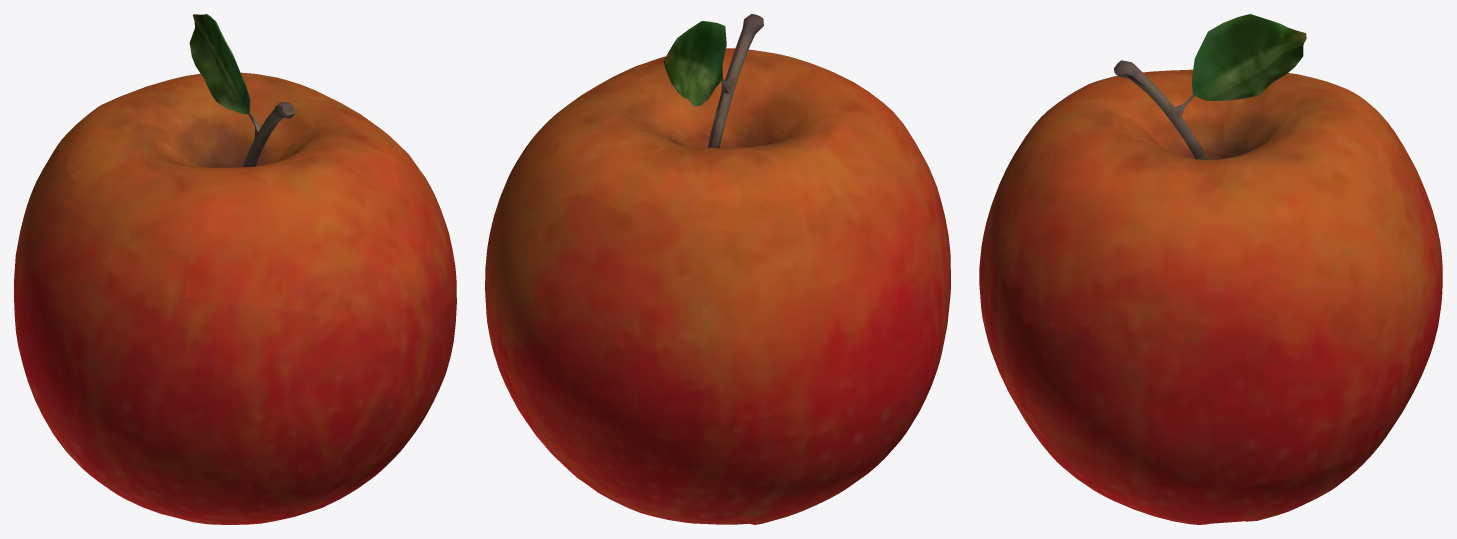
The model's file is food_produce_apple_d01.glb.
3 views of the same model, side by side, from view 1: azimuth 30°, elevation 25°; view 2: azimuth 150°, elevation 25°; view 3: azimuth 270°, elevation 25° (orthographic). The views are drawn at different scales.
Parts seen in each view (by area): view 1: part0; view 2: part0; view 3: part0.
Boxes of the visible parts, x1,y1,x2,y2 form: part0: [14, 14, 456, 524]; part0: [485, 14, 950, 524]; part0: [979, 14, 1442, 524].
Bounding box in the file's own units: 0.0596 × 0.0694 × 0.0613.
1 material, 1 textured.
